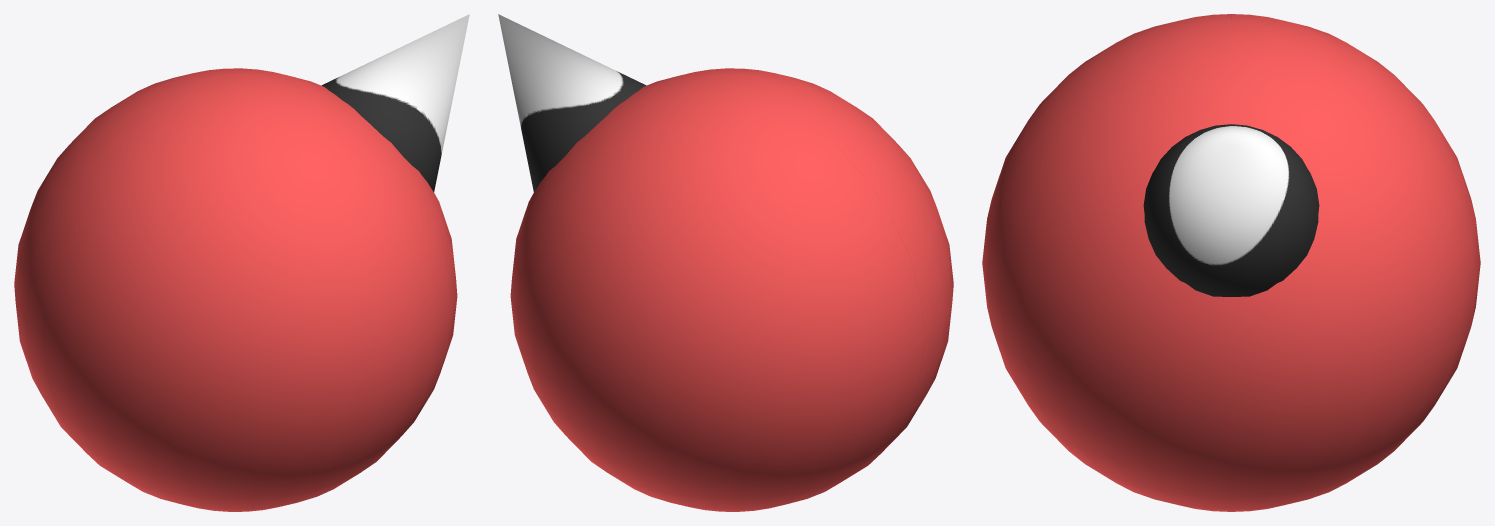
The model's file is NormalEnemy.obj.
3 renders of one model, left to right at view 1: azimuth 30°, elevation 25°; view 2: azimuth 150°, elevation 25°; view 3: azimuth 270°, elevation 25°, orthographic. The views are drawn at different scales.
Visible parts, largest first — view 1: 球; view 2: 球; view 3: 球.
Part boxes in pixels (box(x1,y1,x2,y2)): 球: box(14, 14, 469, 511); 球: box(498, 14, 953, 511); 球: box(982, 14, 1480, 511).
Size of the model in its own units: 1.11 by 1.04 by 1.
Materials: 1 (1 with a texture image).
